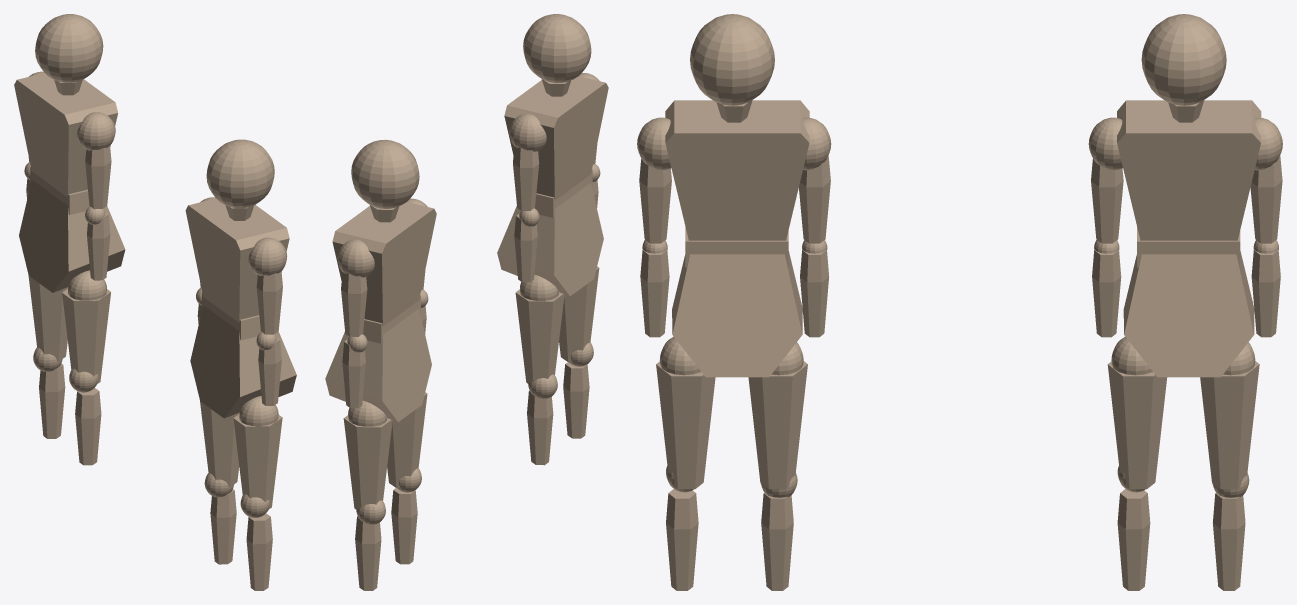
3 renders of one model, left to right at view 1: azimuth 30°, elevation 25°; view 2: azimuth 150°, elevation 25°; view 3: azimuth 270°, elevation 25°, orthographic. The views are drawn at different scales.
Visible parts, largest first — view 1: Cube.001, Cube.042, Cube.039, Cube.041, Cube.031, Cube.032, Cube.029, Cube.030, Cube.023, Cube.024, Cube.037, Cube.036 (+3 smaller); view 2: Cube.001, Cube.042, Cube.039, Cube.041, Cube.032, Cube.031, Cube.029, Cube.030, Cube.028, Cube.027, Cube.038, Cube.040 (+3 smaller); view 3: Cube.001, Cube.042, Cube.039, Cube.041, Cube.031, Cube.032, Cube.029, Cube.030, Cube.027, Cube.024, Cube.023, Cube.028 (+4 smaller).
Boxes of the visible parts, <box> form: Cube.001: <box>14,14,125,465</box>; Cube.042: <box>185,198,289,322</box>; Cube.039: <box>190,305,296,418</box>; Cube.041: <box>206,139,274,208</box>; Cube.031: <box>233,414,282,508</box>; Cube.032: <box>200,401,239,487</box>; Cube.029: <box>246,513,272,590</box>; Cube.030: <box>210,489,236,564</box>; Cube.023: <box>256,271,282,334</box>; Cube.024: <box>258,337,281,405</box>; Cube.037: <box>248,237,287,275</box>; Cube.036: <box>239,396,278,426</box>; Cube.001: <box>325,139,436,590</box>; Cube.042: <box>504,76,608,200</box>; Cube.039: <box>497,183,603,296</box>; Cube.041: <box>523,14,591,83</box>; Cube.032: <box>515,289,564,383</box>; Cube.031: <box>559,266,599,362</box>; Cube.029: <box>563,362,589,438</box>; Cube.030: <box>527,390,553,465</box>; Cube.028: <box>513,146,539,210</box>; Cube.027: <box>514,213,537,282</box>; Cube.038: <box>509,113,546,151</box>; Cube.040: <box>518,169,592,217</box>; Cube.001: <box>1088,14,1282,590</box>; Cube.042: <box>665,100,809,240</box>; Cube.039: <box>672,251,802,377</box>; Cube.041: <box>690,14,774,105</box>; Cube.031: <box>656,361,715,489</box>; Cube.032: <box>748,361,807,489</box>; Cube.029: <box>666,489,698,590</box>; Cube.030: <box>761,492,793,590</box>; Cube.027: <box>800,249,829,337</box>; Cube.024: <box>640,250,669,337</box>; Cube.023: <box>639,159,671,243</box>; Cube.028: <box>799,155,830,243</box>.
Size of the model in its own units: 136 by 780 by 803.
